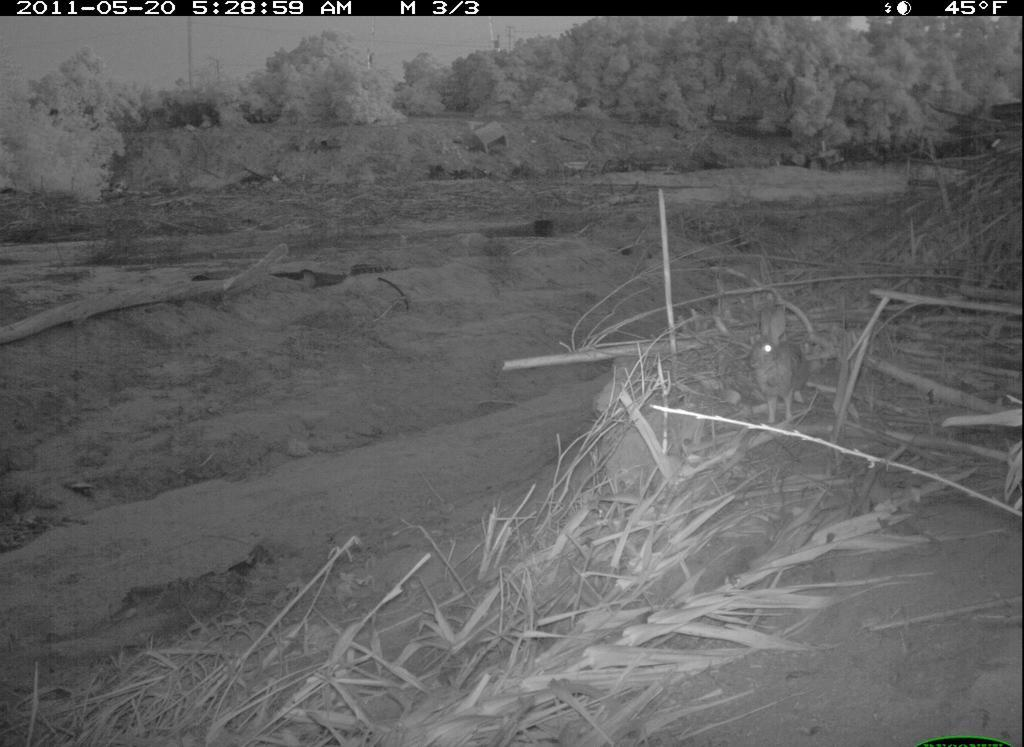rabbit: (735, 297, 817, 434)
